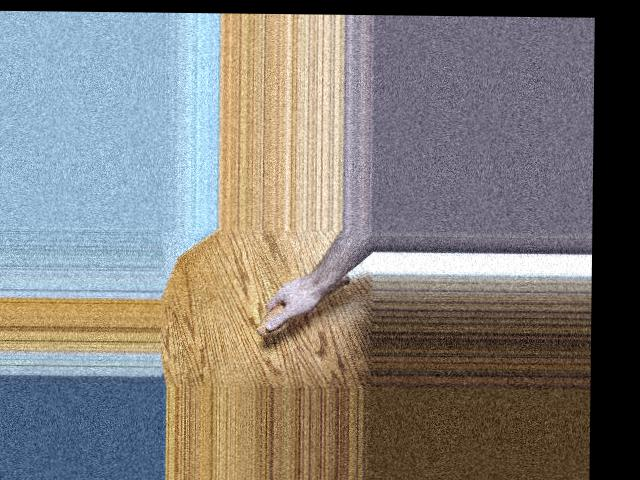sweet_potato: (255, 269, 353, 336)
